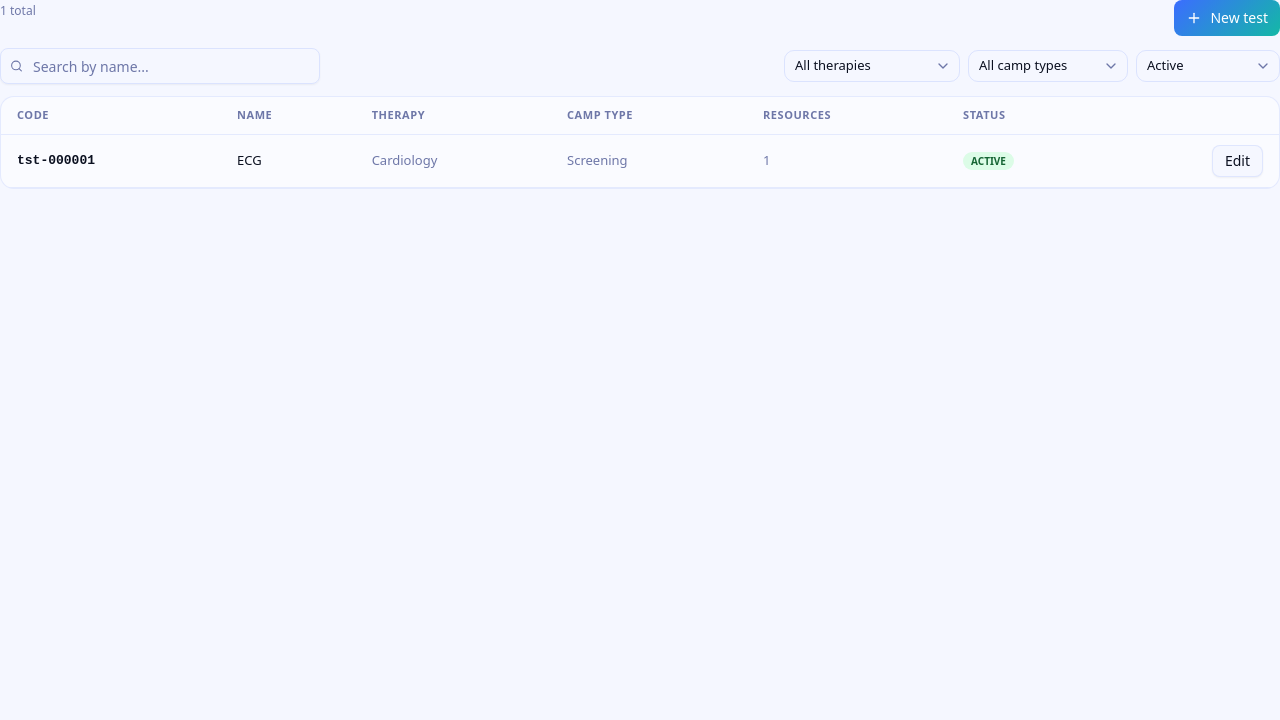
Test: TestMasterTab › opens the edit modal via a focusable Edit button when canManage, resolving that row's detail
The image size is (1280, 720).
Click the button "Edit" at {"x": 1237, "y": 160}, box [1212,144,1263,176]
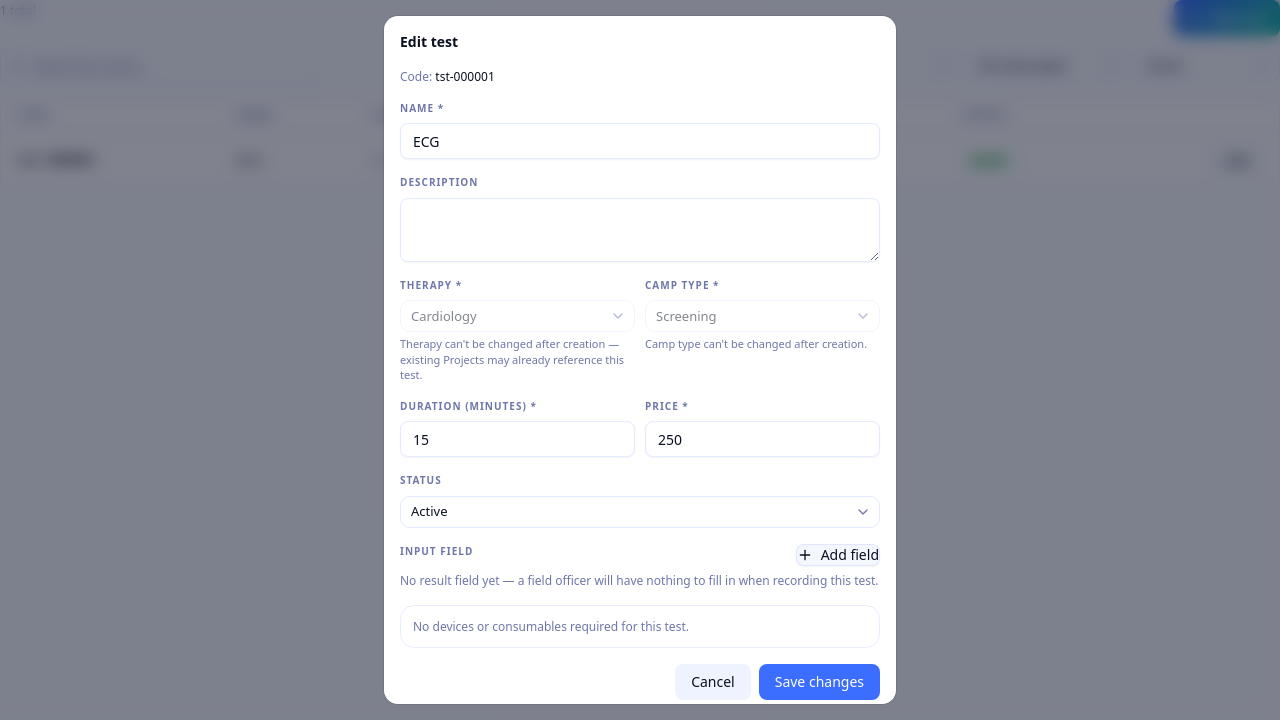
Expected: the heading "Edit test" is shown, [400,32,458,51]
